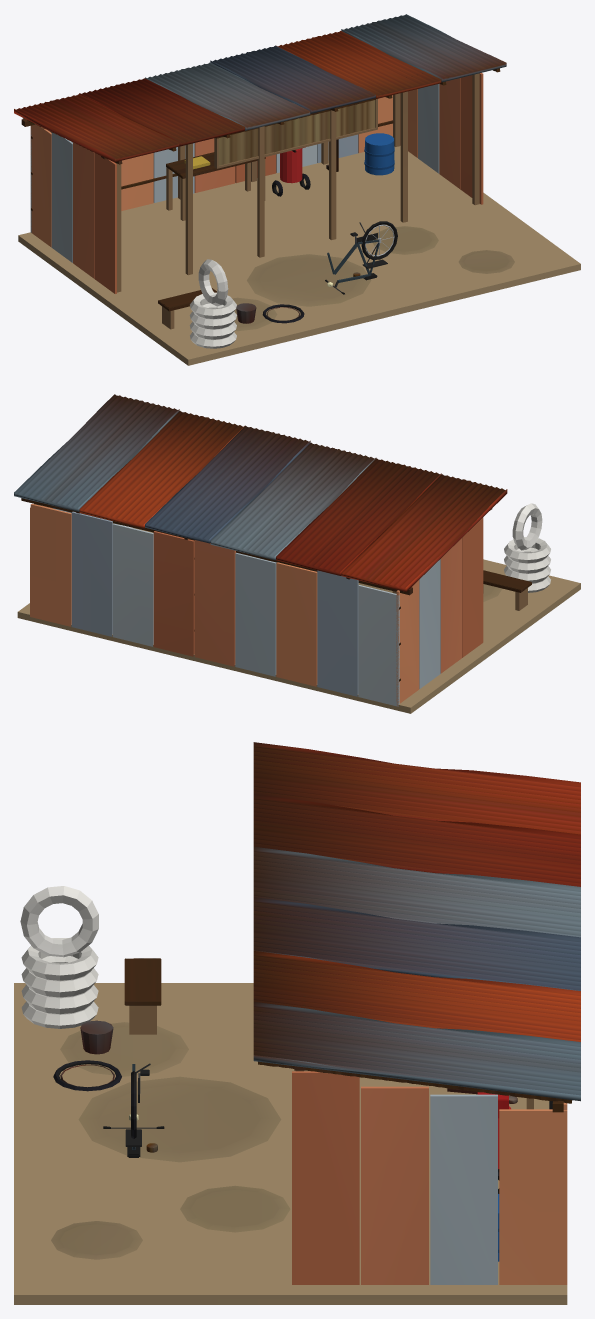
Rendered from puncture_v2.glb.
The picture shows the model from 3 angles, top to bottom: view 1: azimuth 30°, elevation 25°; view 2: azimuth 150°, elevation 25°; view 3: azimuth 270°, elevation 25°; orthographic projection. The views are drawn at different scales.
Parts seen in each view (by area): view 1: hb_main, hb_tin, hb_props, hb_metal; view 2: hb_tin, hb_main, hb_props; view 3: hb_tin, hb_main, hb_props, hb_metal.
Part boxes in pixels (left/top/right/bottom): hb_main: left=18, top=131, right=580, bottom=365; hb_tin: left=14, top=14, right=506, bottom=293; hb_props: left=21, top=68, right=500, bottom=329; hb_metal: left=236, top=139, right=360, bottom=323; hb_tin: left=14, top=394, right=507, bottom=706; hb_main: left=17, top=503, right=580, bottom=713; hb_props: left=21, top=427, right=531, bottom=681; hb_tin: left=253, top=742, right=580, bottom=1284; hb_main: left=14, top=886, right=567, bottom=1304; hb_props: left=124, top=958, right=571, bottom=1112; hb_metal: left=60, top=1020, right=517, bottom=1152.
Bounding box in the file's own units: 8 × 3.01 × 6.15.
